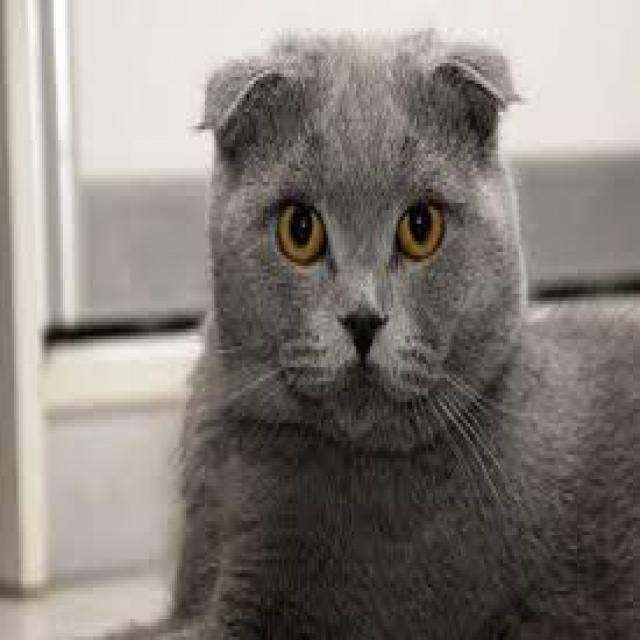cat-face: (168, 7, 616, 513)
